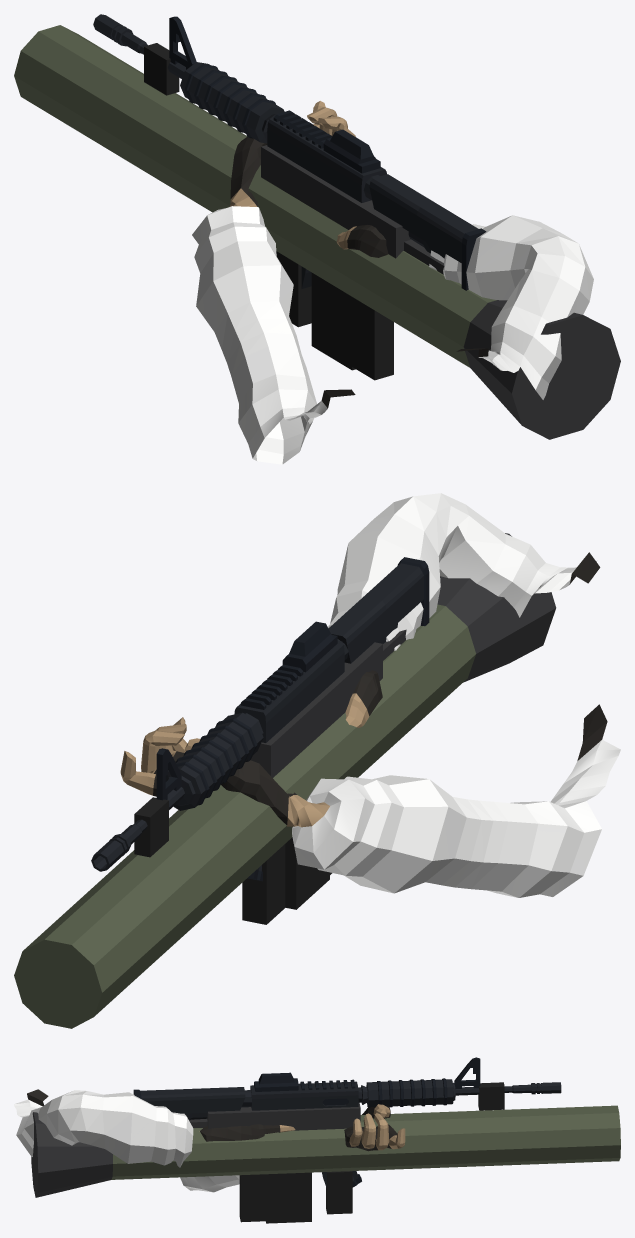
Rendered from viewmodel.glb.
3 views of the same model, one above another, from view 1: azimuth 30°, elevation 25°; view 2: azimuth 150°, elevation 25°; view 3: azimuth 270°, elevation 25° (orthographic). The views are drawn at different scales.
Parts seen in each view (by area): view 1: ViewBazooka, Arms, ViewRifle, ViewSmg; view 2: Arms, ViewBazooka, ViewRifle, ViewSmg; view 3: ViewBazooka, Arms, ViewRifle, ViewSmg.
Boxes of the visible parts, x1,y1,x2,y2 form: ViewBazooka: (14, 25, 620, 439); Arms: (192, 101, 593, 464); ViewRifle: (93, 14, 486, 290); ViewSmg: (261, 145, 444, 370); Arms: (120, 493, 620, 897); ViewBazooka: (14, 533, 556, 1028); ViewRifle: (91, 557, 429, 881); ViewSmg: (250, 629, 406, 909); ViewBazooka: (31, 1082, 620, 1222); Arms: (14, 1089, 405, 1192); ViewRifle: (133, 1057, 561, 1188); ViewSmg: (189, 1102, 360, 1223).
Size of the model in its own units: 0.3842 by 0.364 by 1.19.
